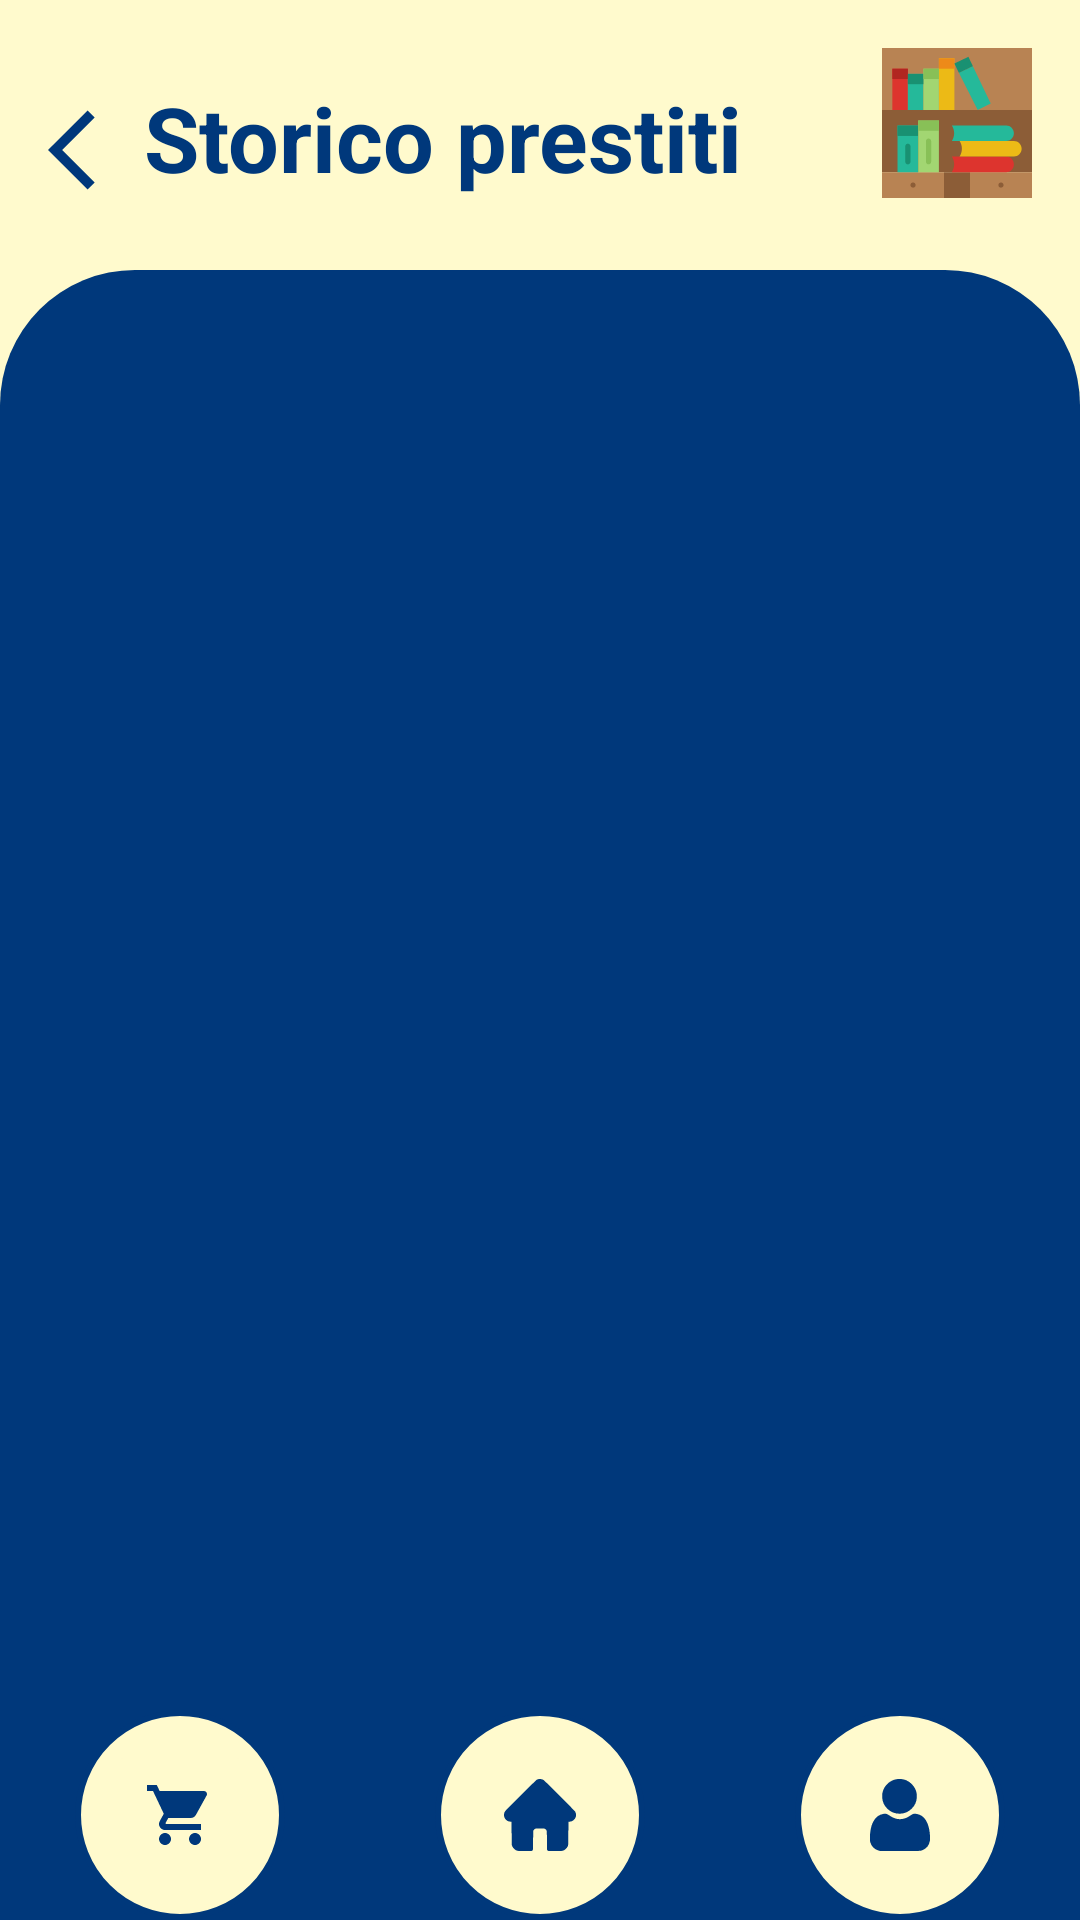

Icon bounding boxes for this 1080w x 1920h phone screenshot, format box(x1, y1, x2, y2):
account: box(870, 1779, 930, 1851)
arrow back: box(48, 110, 95, 190)
cart: box(147, 1785, 207, 1845)
home: box(504, 1779, 576, 1851)
